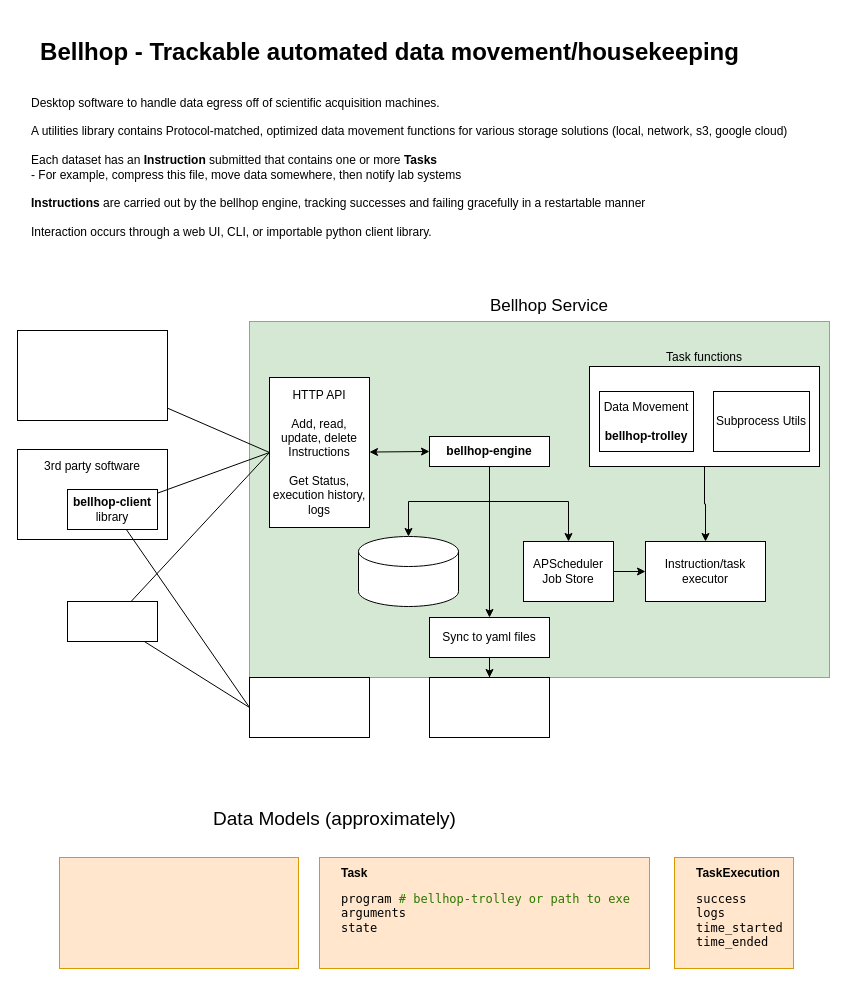
Image size: 847x986. Some labels were removed from this diagram. The shapes that lost their labels are listed below. From the top down, each one's box as (x1, y1, x2, y2) in pixels, then its label:
(16, 330, 168, 420): Web UI for user interaction bellhop-ui
(358, 536, 458, 606): Database Instructions
(66, 600, 158, 642): bellhop-client CLI
(248, 676, 370, 738): Service management (start/stop/kill/status)
(428, 676, 550, 738): OS File System
(58, 856, 298, 968): Instruction tasks: list[Task] scheduled_execution history: list[TaskExecution]
